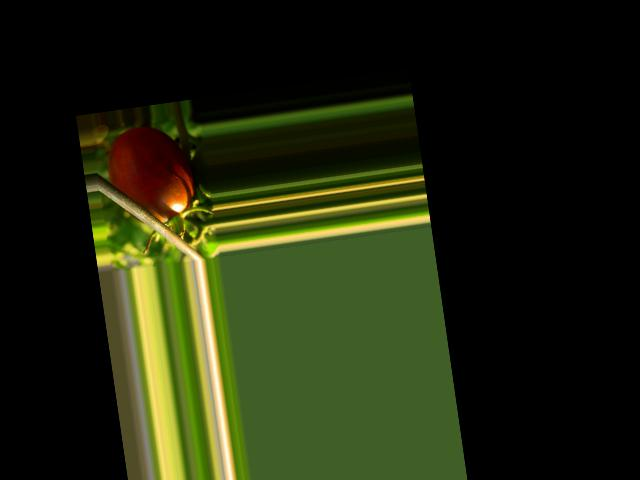tomato: (104, 121, 197, 229)
